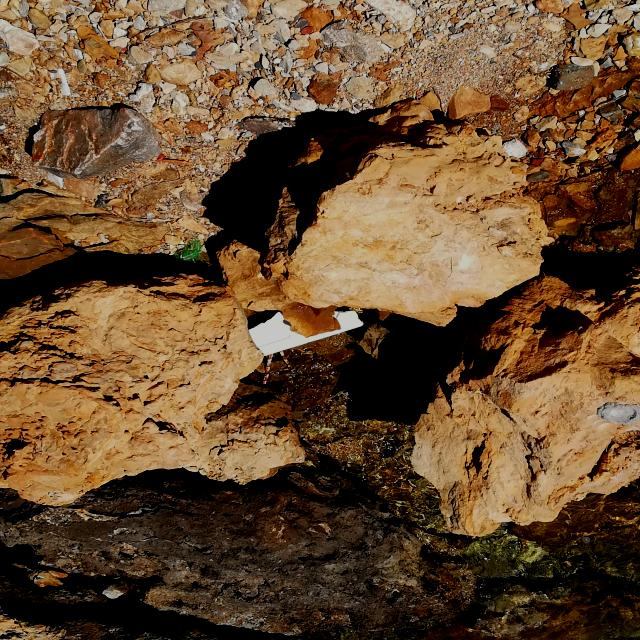Other plastic bottle: (249, 311, 363, 356)
Rope - strings: (175, 239, 202, 265)
